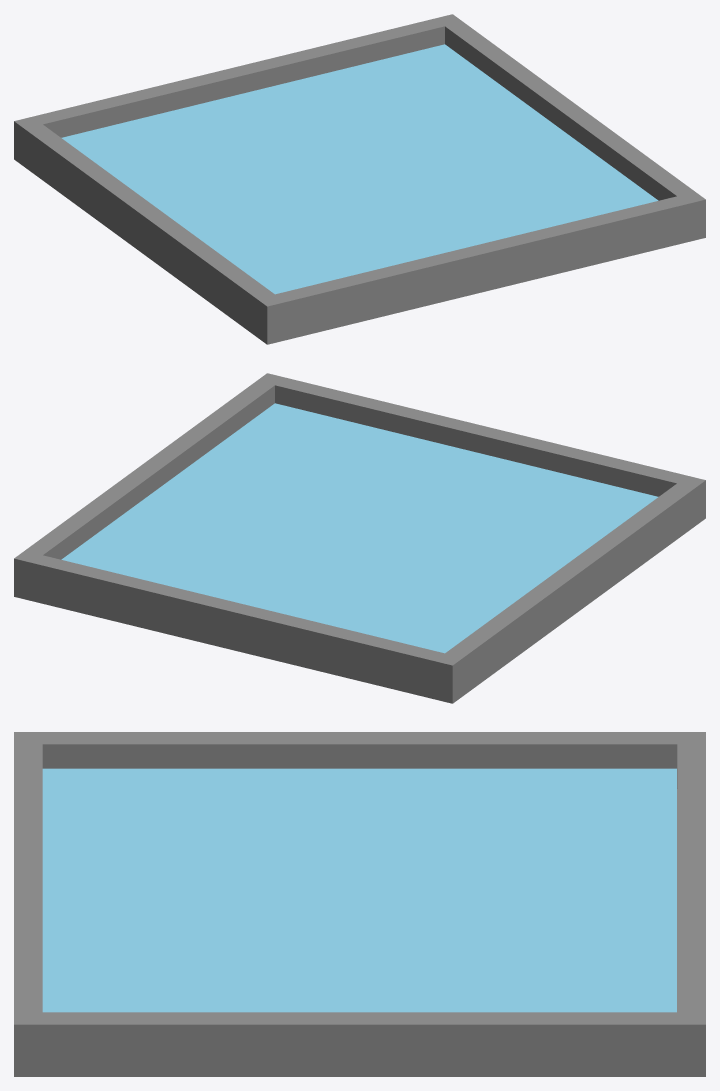
File: Roof_Window_01.FBX
3 renders of one model, top to bottom at view 1: azimuth 30°, elevation 25°; view 2: azimuth 150°, elevation 25°; view 3: azimuth 270°, elevation 25°, orthographic. The views are drawn at different scales.
Visible parts, largest first — view 1: Roof_Window_01; view 2: Roof_Window_01; view 3: Roof_Window_01.
Boxes of the visible parts, <box> form: Roof_Window_01: <box>14,14,705,344</box>; Roof_Window_01: <box>14,373,705,703</box>; Roof_Window_01: <box>14,732,705,1076</box>.
Bounding box in the file's own units: 6 × 0.5 × 6.
